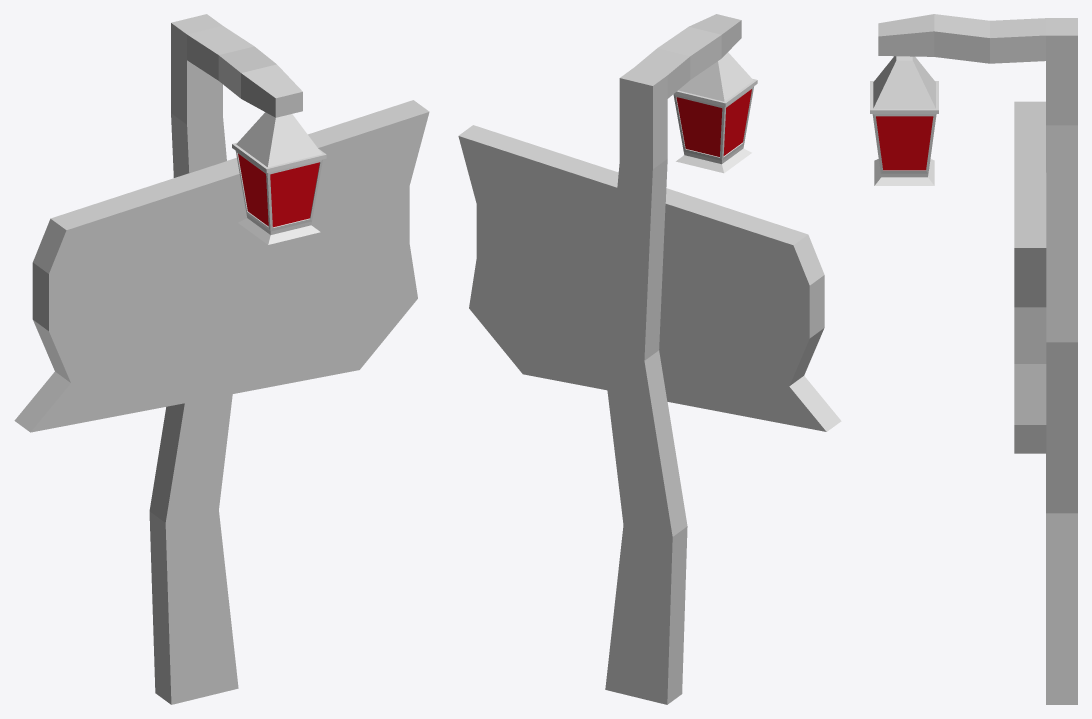
The model's file is Sign.fbx.
3 views of the same model, side by side, from view 1: azimuth 30°, elevation 25°; view 2: azimuth 150°, elevation 25°; view 3: azimuth 270°, elevation 25° (orthographic). The views are drawn at different scales.
Visible parts, largest first — view 1: Cube.035, Cube.036; view 2: Cube.035, Cube.036; view 3: Cube.035, Cube.036.
Boxes of the visible parts, x1,y1,x2,y2 form: Cube.035: [14, 14, 429, 704]; Cube.036: [232, 112, 326, 244]; Cube.035: [458, 14, 841, 704]; Cube.036: [673, 52, 757, 173]; Cube.035: [878, 14, 1077, 704]; Cube.036: [870, 56, 938, 185].
Size of the model in its own units: 203 by 325 by 92.11.
